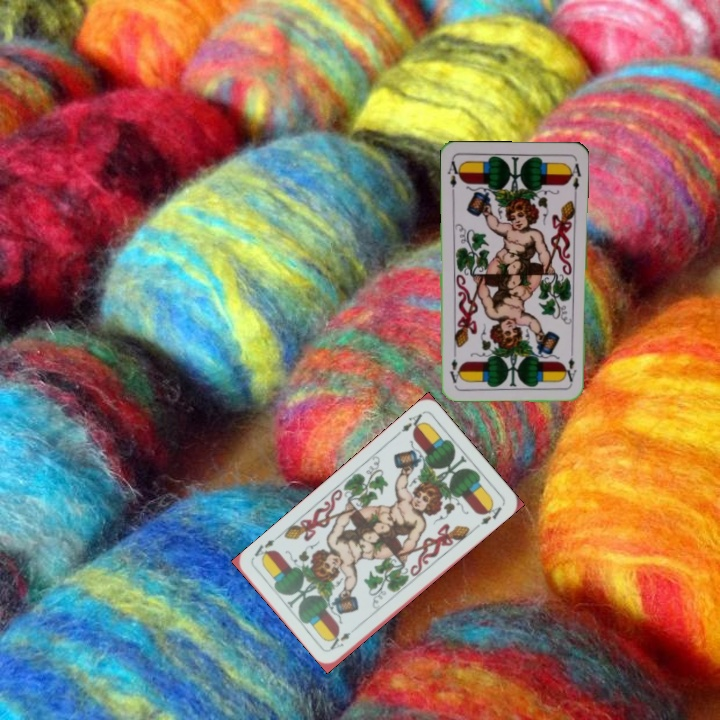EA: (391, 409, 427, 439), (443, 156, 463, 197), (326, 628, 353, 653), (563, 354, 579, 386)
